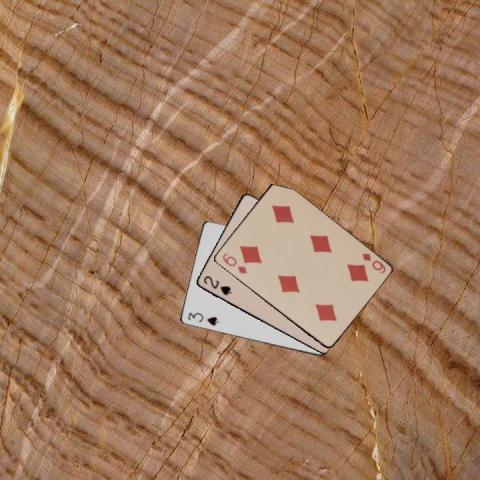2s: (200, 272, 233, 296)
3s: (185, 310, 220, 328)
6d: (219, 250, 248, 275), (358, 250, 386, 275)
